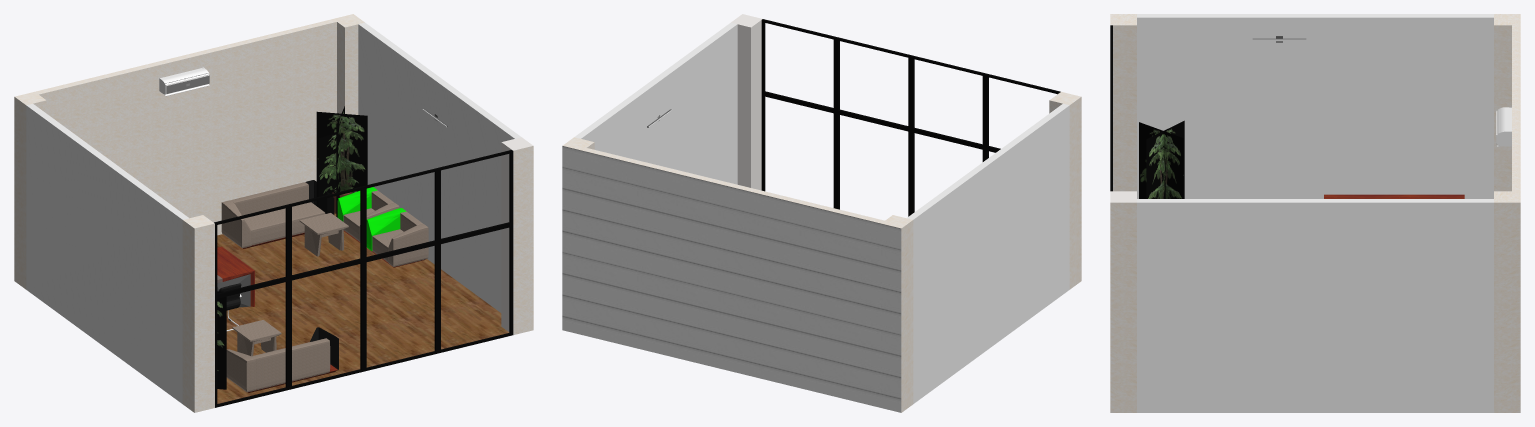
File: Adeel Room 1.glb
3 views of the same model, side by side, from view 1: azimuth 30°, elevation 25°; view 2: azimuth 150°, elevation 25°; view 3: azimuth 270°, elevation 25° (orthographic). The views are drawn at different scales.
Parts seen in each view (by area): view 1: Adeel Room; view 2: Adeel Room; view 3: Adeel Room.
Boxes of the visible parts, x1=… form: Adeel Room: x1=14, y1=14, x2=533, y2=412; Adeel Room: x1=562, y1=14, x2=1081, y2=412; Adeel Room: x1=1110, y1=14, x2=1520, y2=412.
Size of the model in its own units: 300 by 202 by 276.
25 materials, 10 textured.
